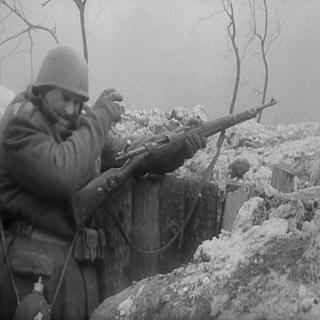gun: (70, 86, 288, 264)
